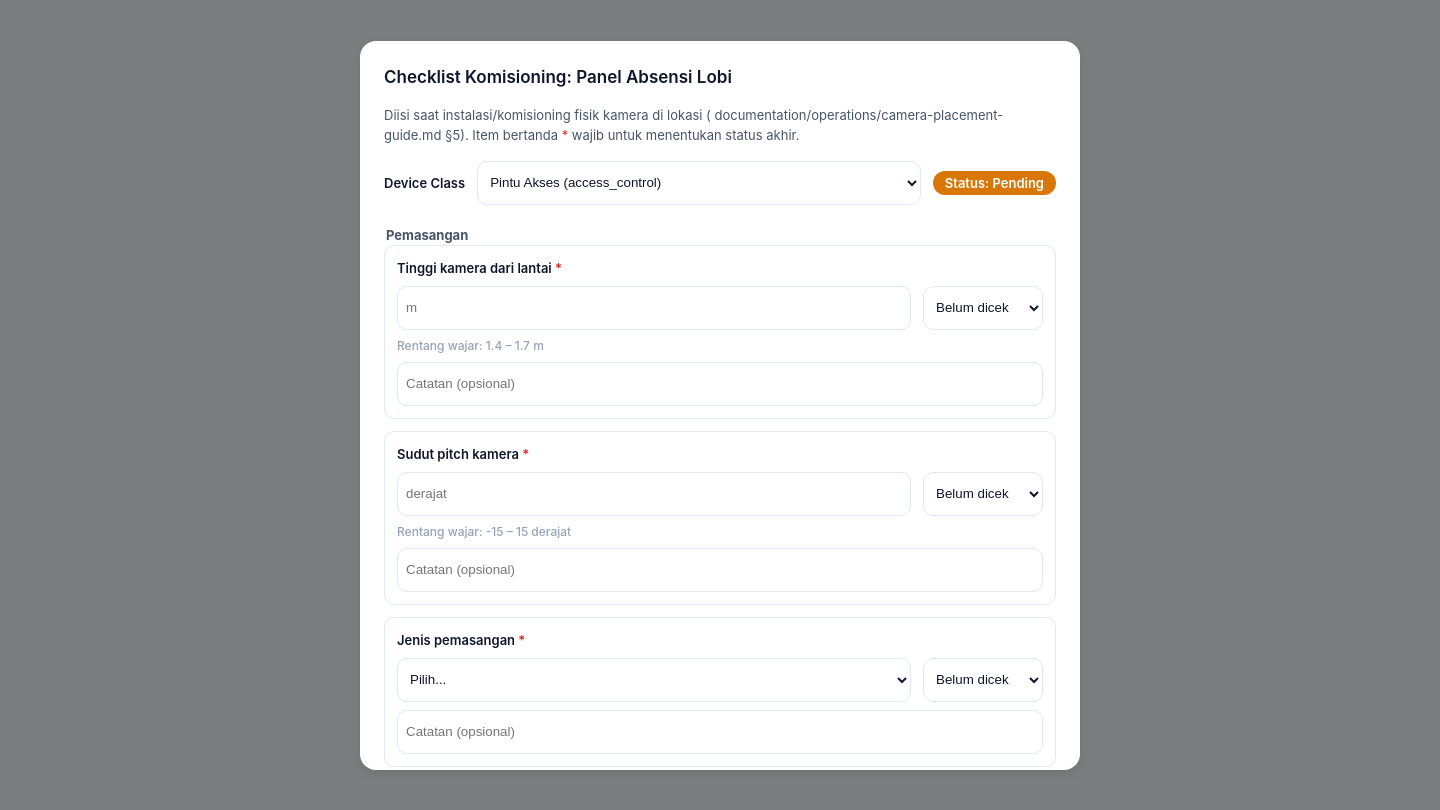
Test case: CommissioningChecklistDialog › auto-suggests pass/fail from measured_value vs expected_range and updates overall_status
The image size is (1440, 810).
mount.camera_height_m expects 1.4-1.7 for door_entry.
Type "1.55" into the number field with placeholder "m".
click(654, 308); type("1.55")  # box [397,286,911,330]
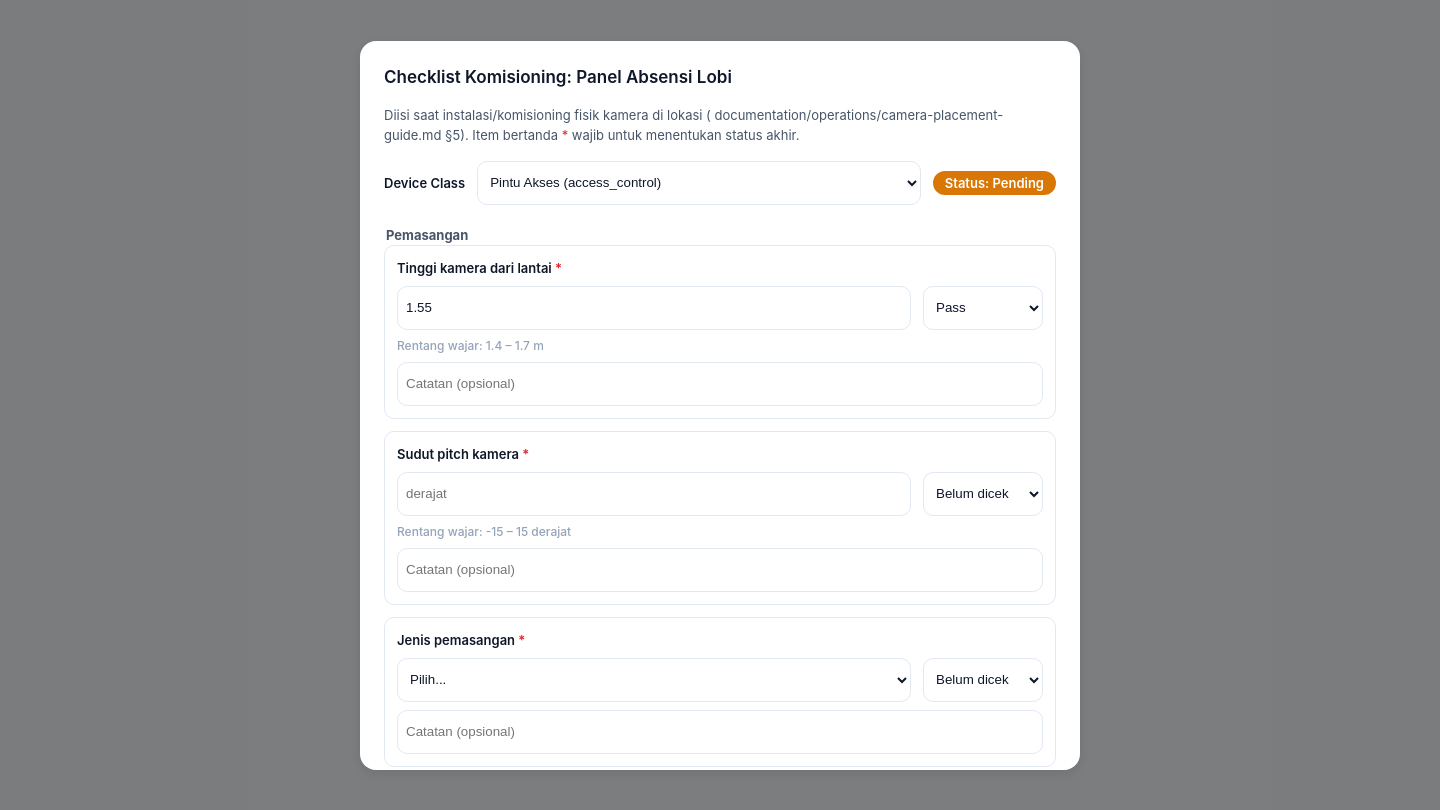
Expected: the text with test id "overall-status" shows "Pending", [992,174,1044,190]
Type "80" into the number field with placeholder "derajat".
click(654, 494); type("80")  # box [397,472,911,516]
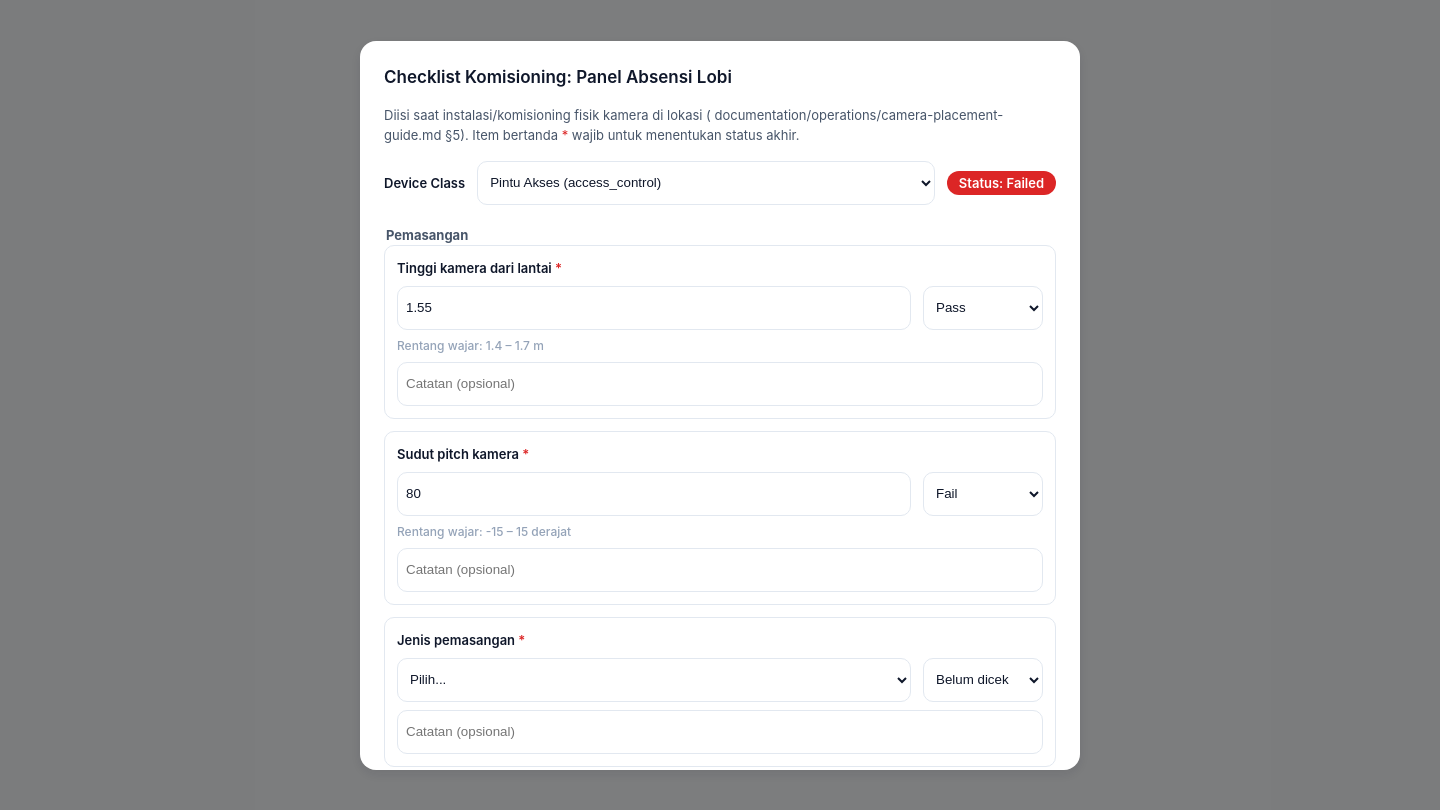
Expected: the text with test id "overall-status" shows "Failed", [1006,174,1044,190]
